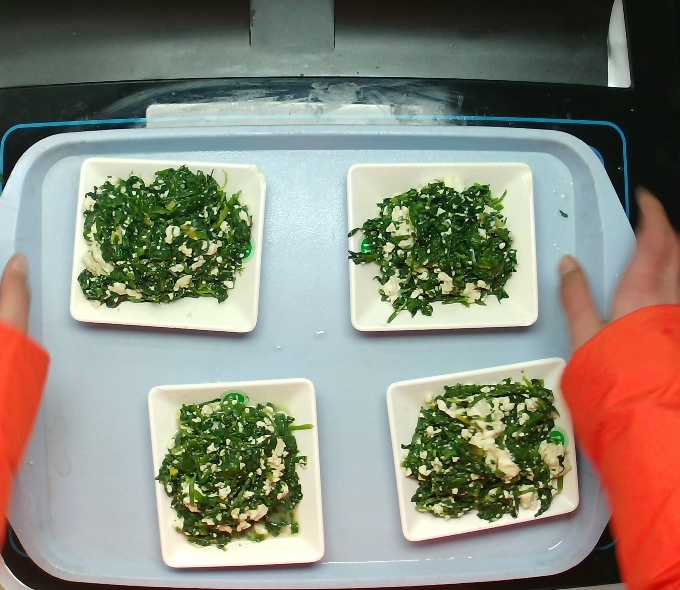wcq-QinCaiYeDouFu: (384, 363, 583, 534), (344, 166, 527, 326), (158, 388, 308, 552), (81, 164, 245, 308)
